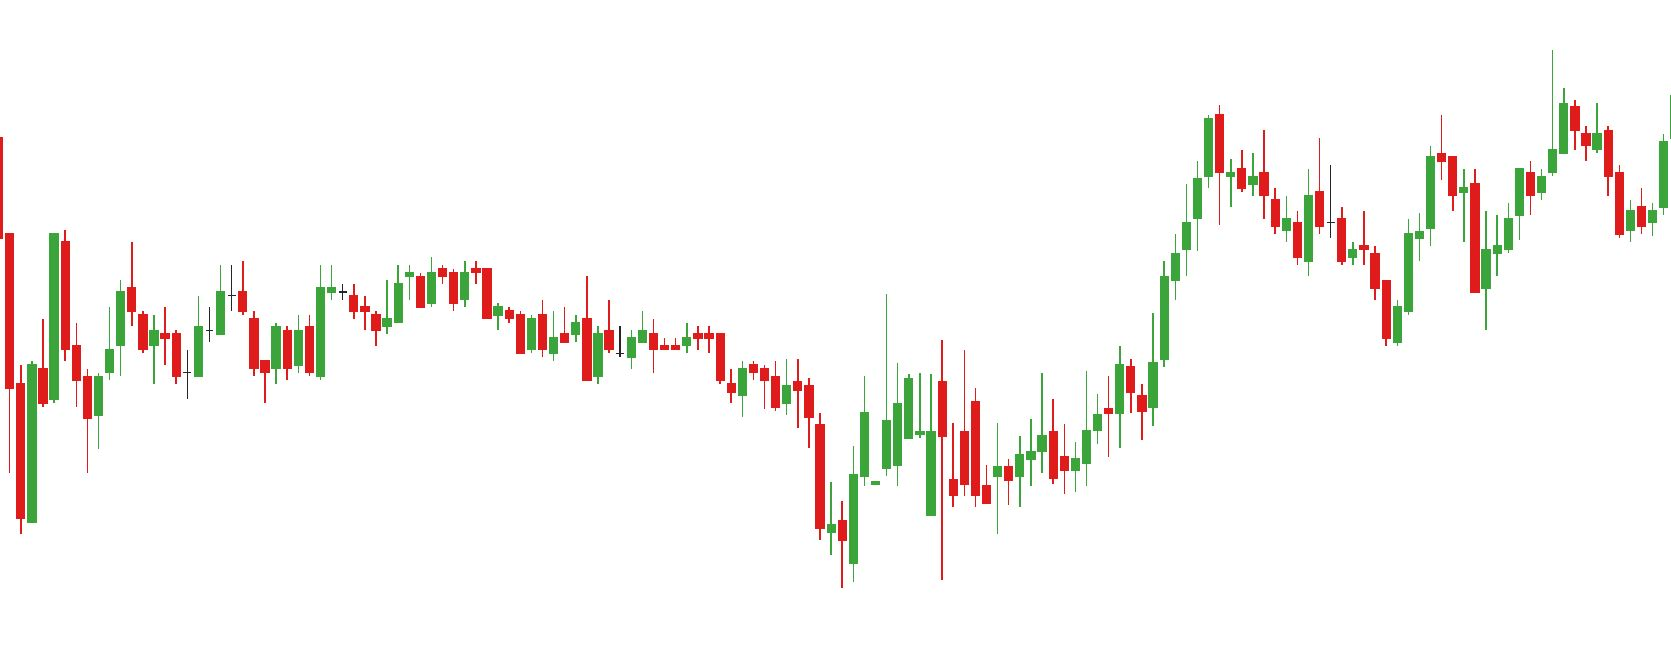sell: (1313, 107, 1448, 266)
